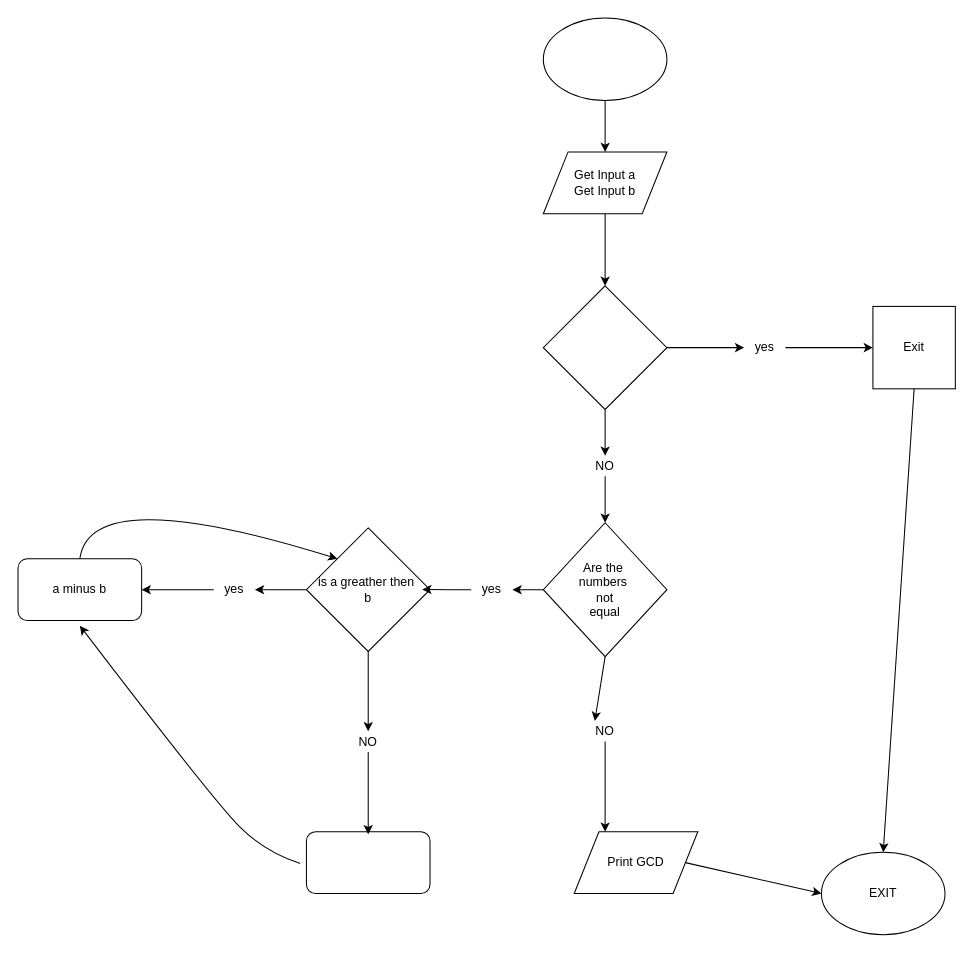
Some shapes in this 973 by 953 pixel diagram are drawn without their labels. Here are the shapes that lost their labels. From the top down, the centre of each, then its label:
pixel 604 58: START
pixel 604 347: Is a greater than b
pixel 367 862: b minus a
